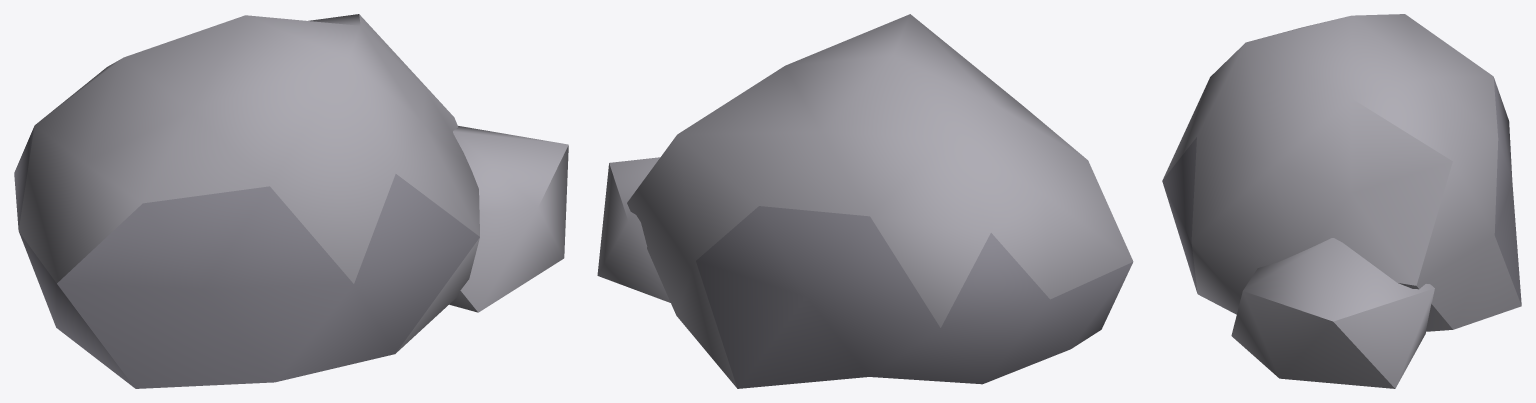
The model's file is rock.glb.
The picture shows the model from 3 angles, left to right: view 1: azimuth 30°, elevation 25°; view 2: azimuth 150°, elevation 25°; view 3: azimuth 270°, elevation 25°; orthographic projection. The views are drawn at different scales.
Visible parts, largest first — view 1: rock; view 2: rock; view 3: rock.
Boxes of the visible parts, x1,y1,x2,y2 form: rock: (14, 14, 568, 388); rock: (597, 14, 1133, 388); rock: (1162, 14, 1521, 388).
Size of the model in its own units: 1.48 by 0.7914 by 0.9856.
Materials: 1 (1 with a texture image).
